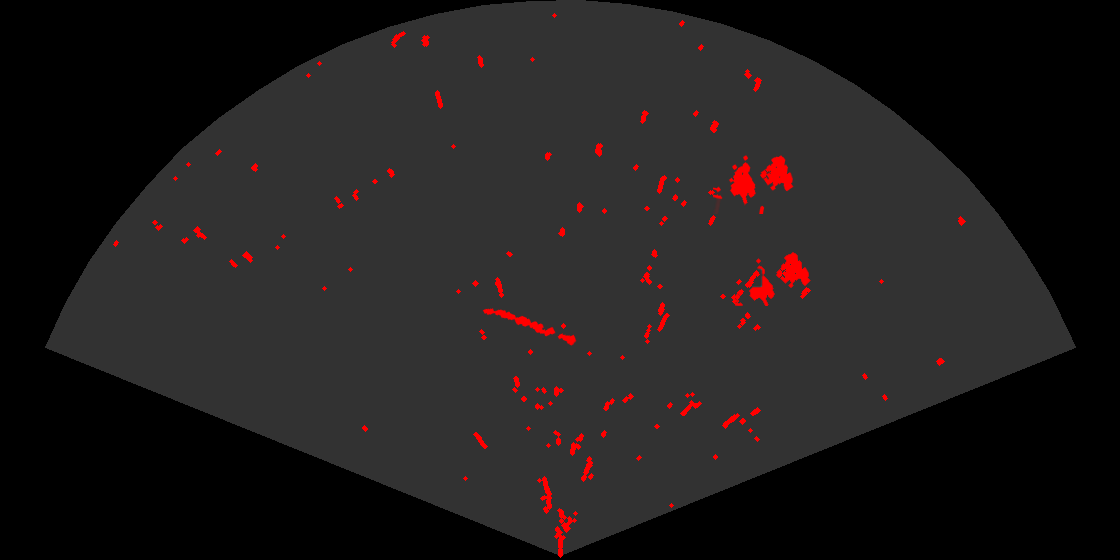cage: (713, 154, 795, 214), (735, 251, 812, 306)
chain: (481, 307, 578, 347)
